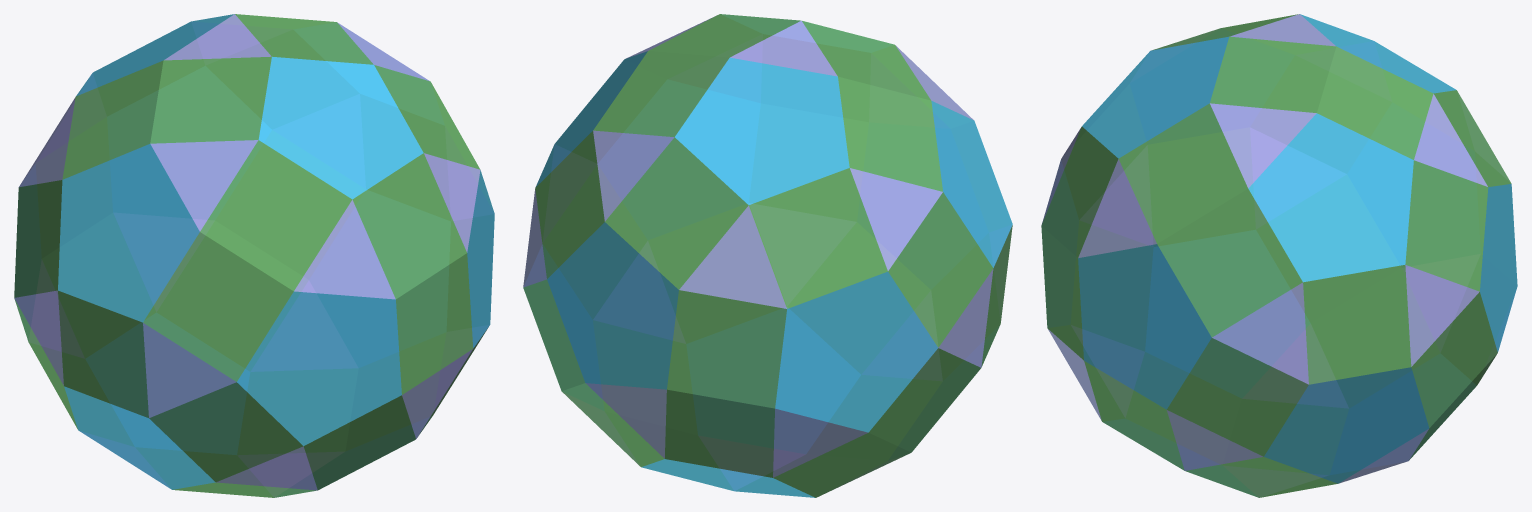
Rendered from j73_parabigyrate_rhombicosidodecahedron.obj.
The picture shows the model from 3 angles, left to right: view 1: azimuth 30°, elevation 25°; view 2: azimuth 150°, elevation 25°; view 3: azimuth 270°, elevation 25°; orthographic projection. The views are drawn at different scales.
Bounding box in the file's own units: 1.97 × 1.96 × 1.96.
